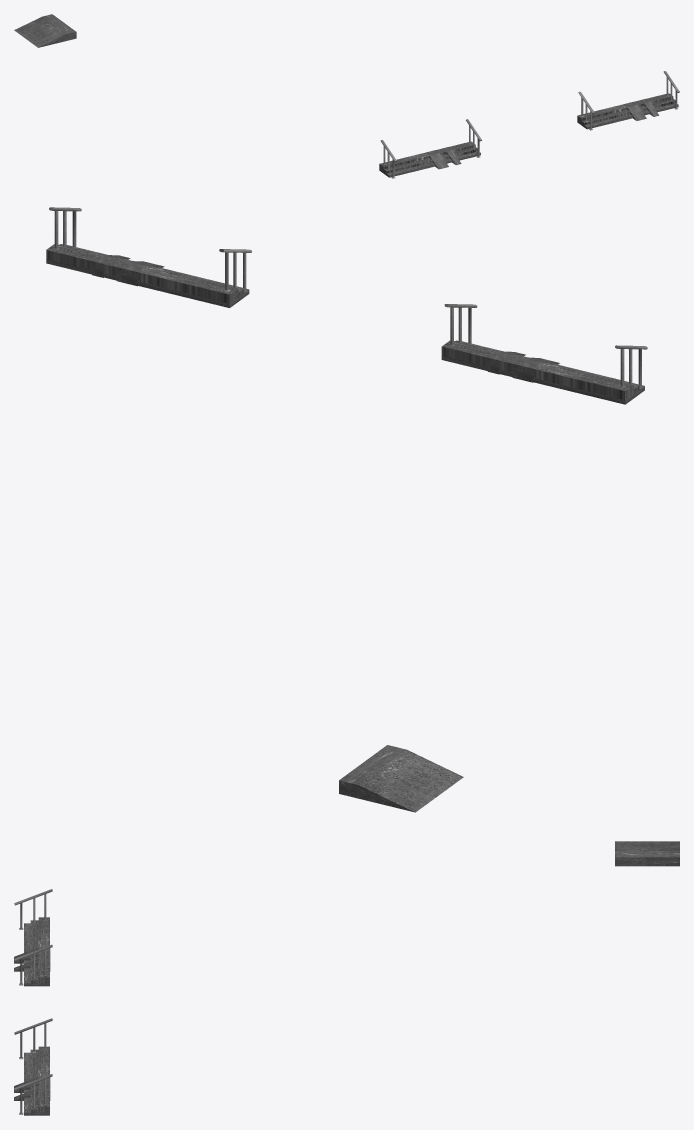
The model's file is Escadas e Rampas.fbx.
3 renders of one model, top to bottom at view 1: azimuth 30°, elevation 25°; view 2: azimuth 150°, elevation 25°; view 3: azimuth 270°, elevation 25°, orthographic. The views are drawn at different scales.
Visible parts, largest first — view 1: Degrau, Degrau.001, Rampa.002, Rampa, Rampa.001; view 2: Rampa.002, Degrau, Degrau.001, Rampa, Rampa.001; view 3: Rampa.002, Degrau, Degrau.001, Rampa, Rampa.001.
Boxes of the visible parts, x1,y1,x2,y2 form: Degrau: [379, 141, 480, 177]; Degrau.001: [577, 93, 678, 129]; Rampa.002: [14, 14, 76, 47]; Rampa: [425, 147, 461, 169]; Rampa.001: [623, 99, 659, 120]; Rampa.002: [339, 745, 463, 812]; Degrau: [441, 340, 644, 404]; Degrau.001: [46, 244, 249, 307]; Rampa: [487, 351, 559, 382]; Rampa.001: [92, 254, 164, 286]; Rampa.002: [615, 841, 679, 866]; Degrau: [24, 917, 49, 986]; Degrau.001: [24, 1046, 49, 1115]; Rampa: [14, 947, 50, 971]; Rampa.001: [14, 1076, 50, 1100].
Size of the model in its own units: 2931 by 197 by 3007.
2 materials, 2 textured.
